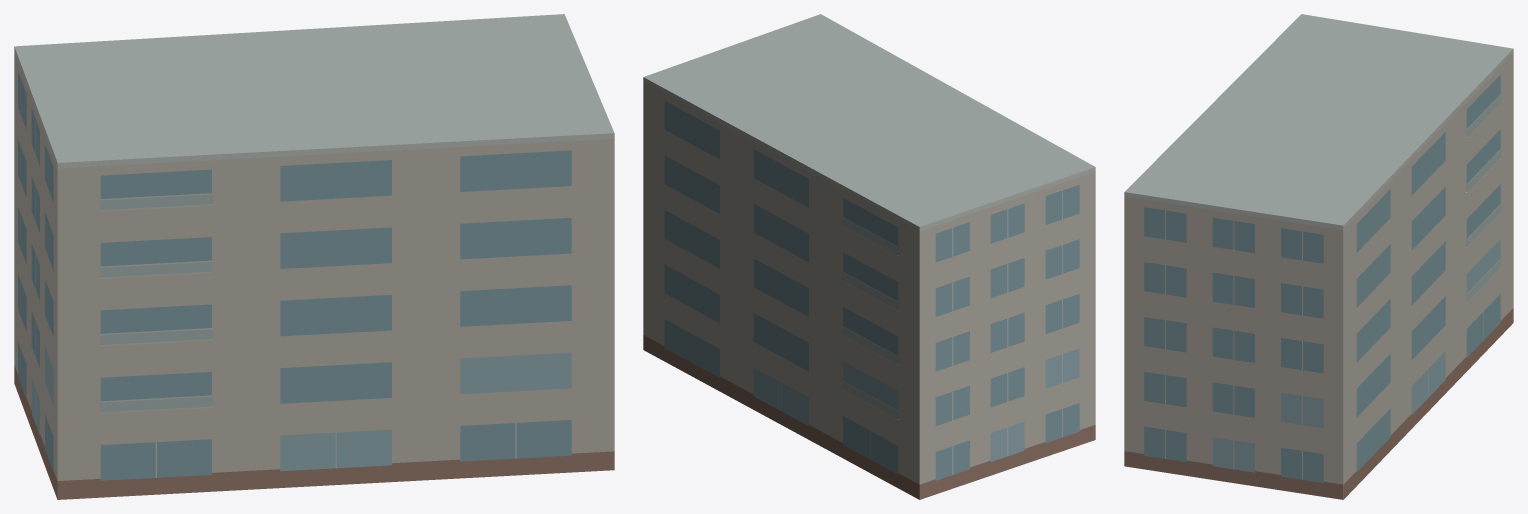
File: survey-upis-32681455.glb
3 renders of one model, left to right at view 1: azimuth 30°, elevation 25°; view 2: azimuth 150°, elevation 25°; view 3: azimuth 270°, elevation 25°, orthographic. The views are drawn at different scales.
Visible parts, largest first — view 1: survey-upis-32681455.tmp; view 2: survey-upis-32681455.tmp; view 3: survey-upis-32681455.tmp.
Boxes of the visible parts, <box> form: survey-upis-32681455.tmp: <box>14,14,614,499</box>; survey-upis-32681455.tmp: <box>643,14,1095,499</box>; survey-upis-32681455.tmp: <box>1124,14,1513,499</box>.
Bounding box in the file's own units: 24.17 × 14.6 × 18.78.
